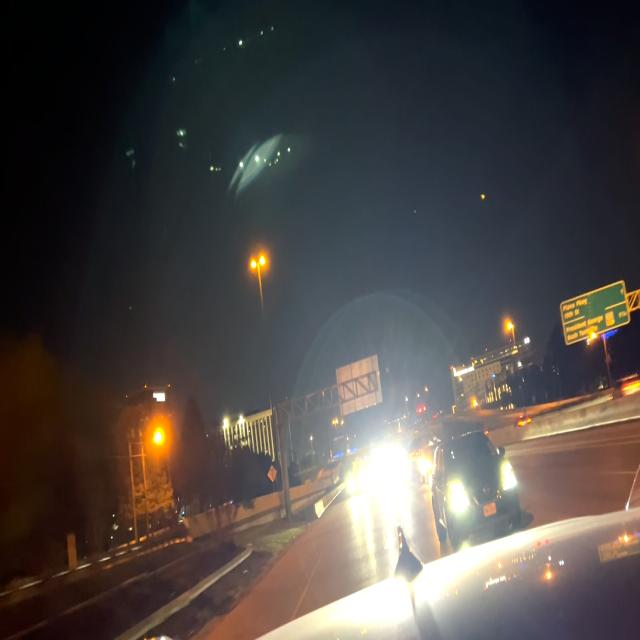back-of-sign: (335, 356, 385, 417)
